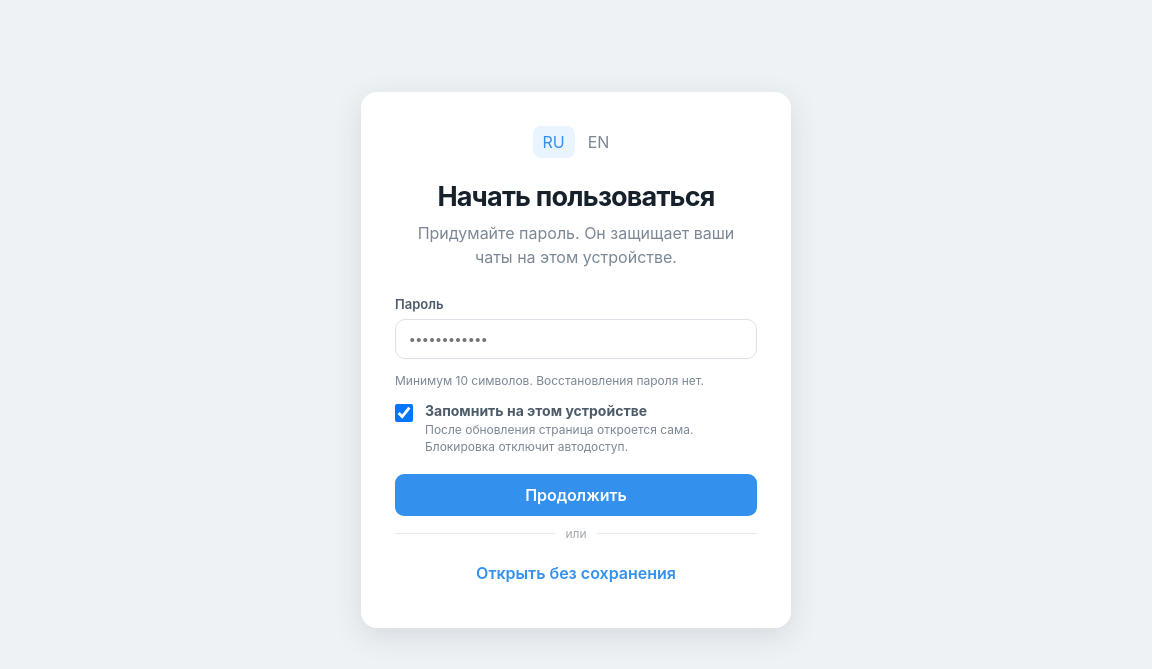
Test: application shell › routes a new user through chats, contacts, and account setup
Click the button "Открыть без сохранения" at (576, 573), box [395, 552, 757, 594]
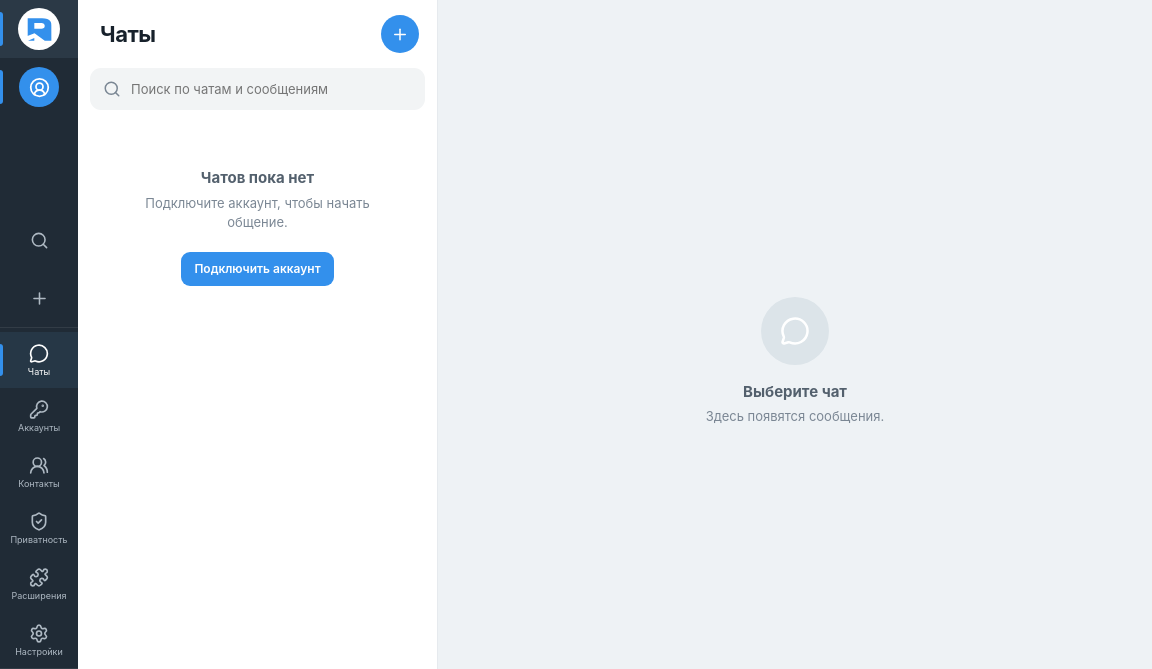
Now the field with placeholder "Поиск по чатам и сообщениям" is shown, box [90, 68, 425, 110]
Click the button "Контакты" at (39, 472), box [0, 444, 78, 500]
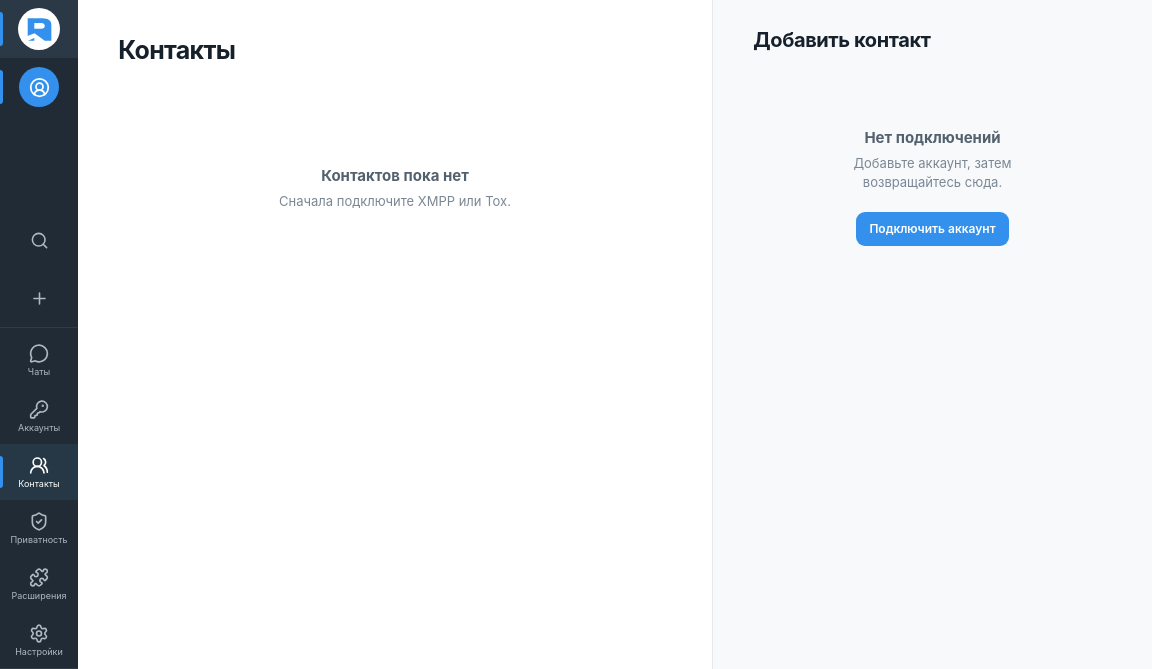
Now the heading "Добавить контакт" is shown, box [753, 28, 930, 52]
Click the button "Подключить аккаунт" at (932, 229), box [856, 212, 1009, 246]
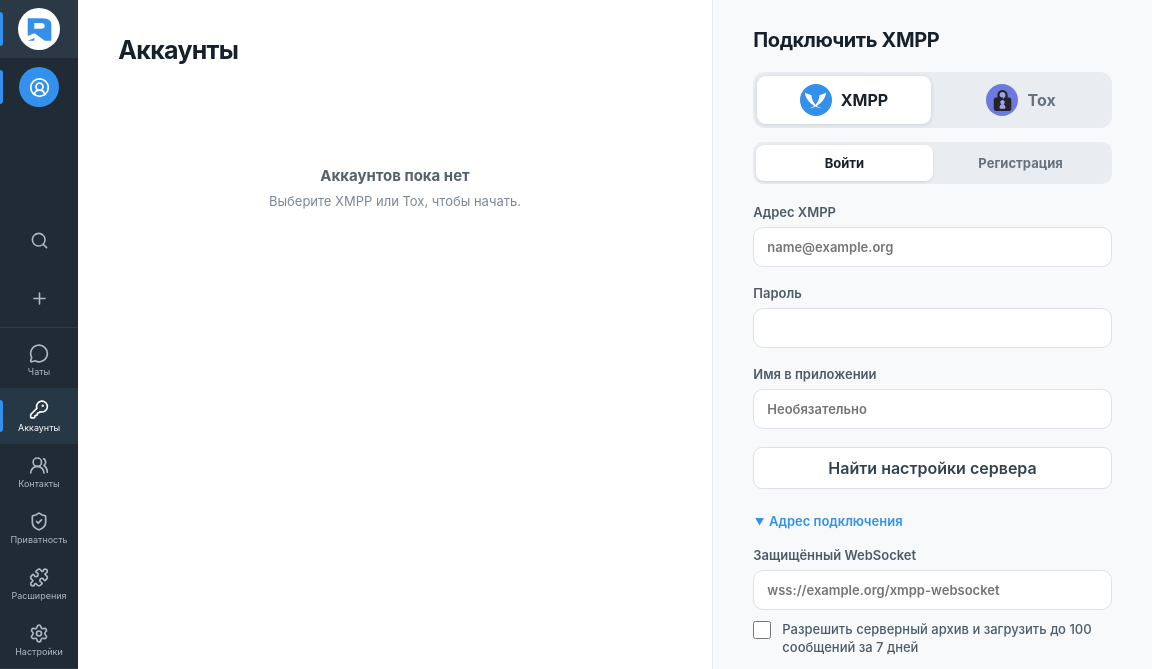
Now the heading "Подключить XMPP" is shown, box [753, 28, 939, 52]
